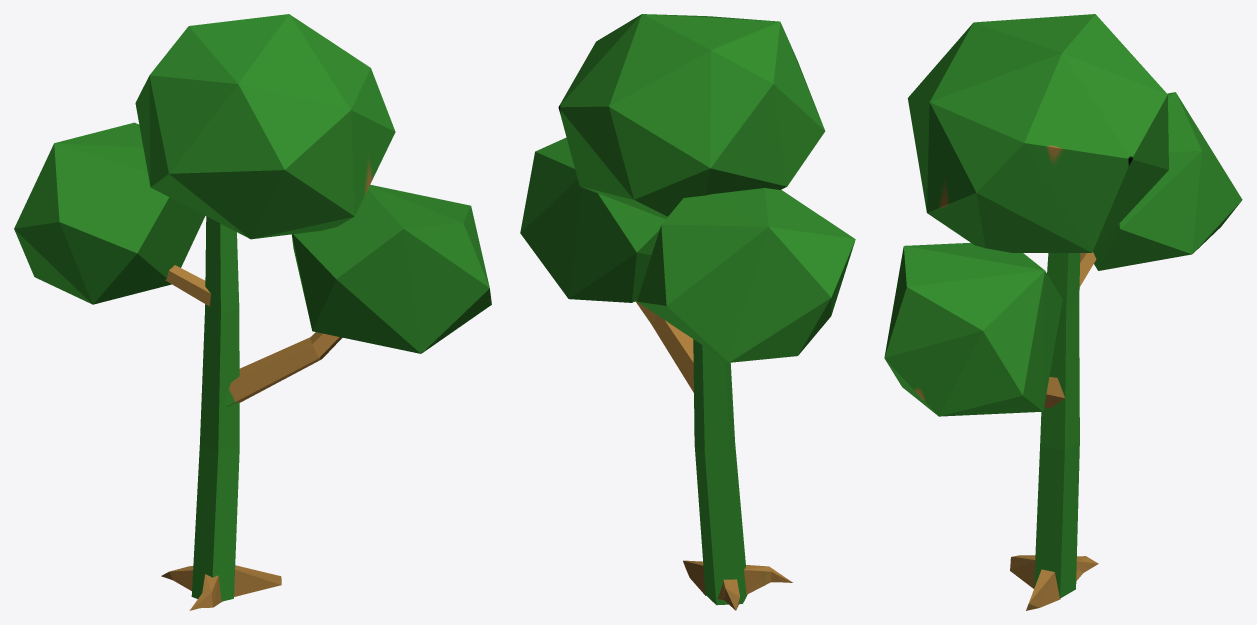
File: Test_Tree_Tex.FBX
3 renders of one model, left to right at view 1: azimuth 30°, elevation 25°; view 2: azimuth 150°, elevation 25°; view 3: azimuth 270°, elevation 25°, orthographic. The views are drawn at different scales.
Visible parts, largest first — view 1: tree01; view 2: tree01; view 3: tree01.
Boxes of the visible parts, left/top/right/bottom form: tree01: left=14, top=14, right=491, bottom=610; tree01: left=520, top=14, right=855, bottom=610; tree01: left=884, top=14, right=1242, bottom=610.
Bounding box in the file's own units: 130 × 185 × 104.
1 material, 1 textured.
